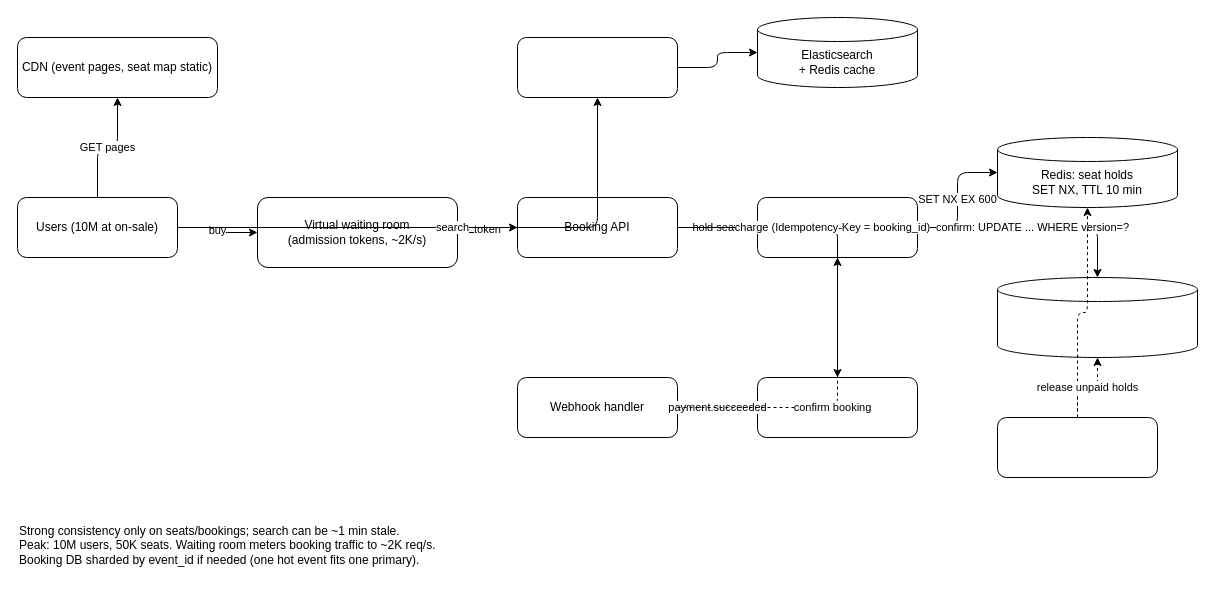
Some shapes in this 1215 by 595 pixel diagram are drawn without their labels. The shapes that lost their labels are listed below. From the top down, each one's box as (x1, y1, x2, y2) in pixels, then its label:
(516, 36, 678, 98): Search API
(996, 276, 1198, 358): Postgres seats(status, version), bookings
(756, 376, 918, 438): Payment provider
(996, 416, 1158, 478): Hold expiry sweeper
